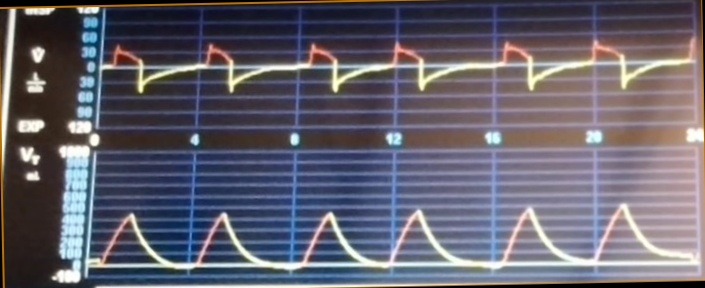Normal Flow: (104, 20, 696, 114)
Normal Volume: (94, 190, 698, 274)
